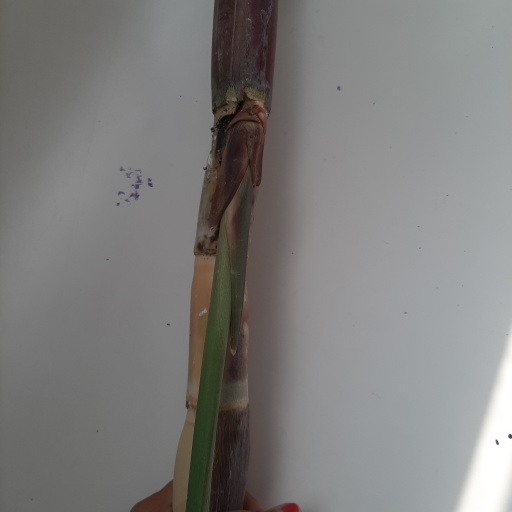Sprouted_Bud: (231, 97, 264, 171)
